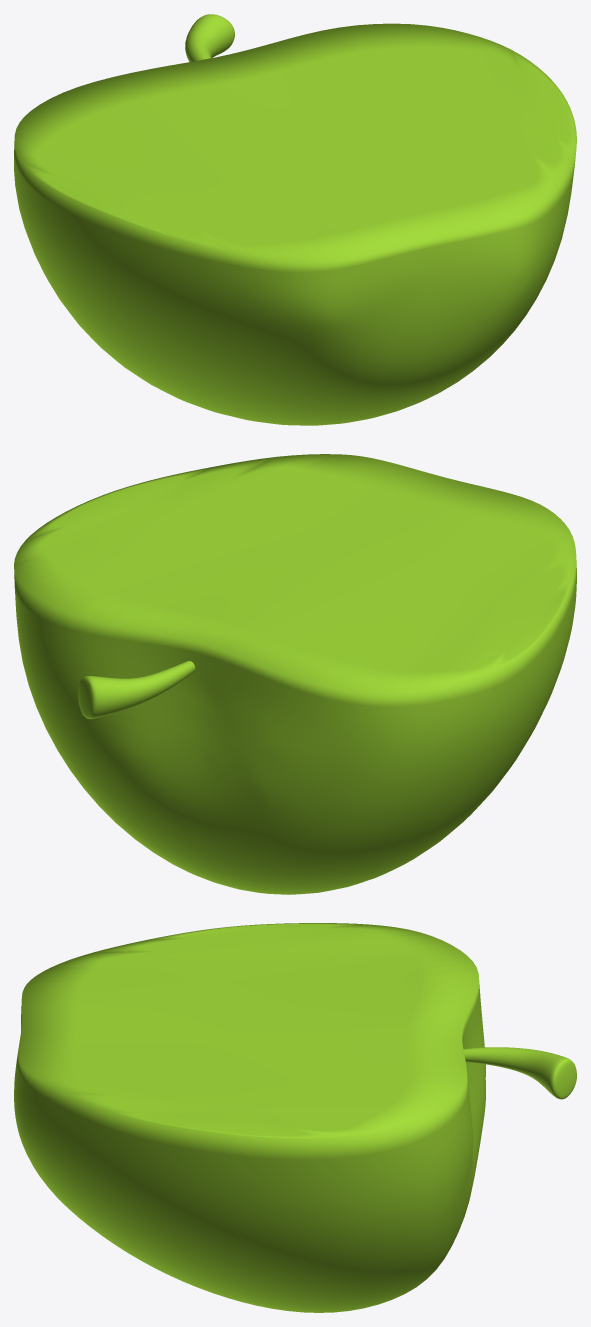
The model's file is apple-half.glb.
3 views of the same model, one above another, from view 1: azimuth 30°, elevation 25°; view 2: azimuth 150°, elevation 25°; view 3: azimuth 270°, elevation 25° (orthographic). The views are drawn at different scales.
Parts seen in each view (by area): view 1: APPLE_green_Half.003; view 2: APPLE_green_Half.003; view 3: APPLE_green_Half.003.
Boxes of the visible parts, <box> form: APPLE_green_Half.003: <box>14,14,576,425</box>; APPLE_green_Half.003: <box>14,454,576,894</box>; APPLE_green_Half.003: <box>14,923,576,1312</box>.
Bounding box in the file's own units: 0.081 × 0.045 × 0.0871.
